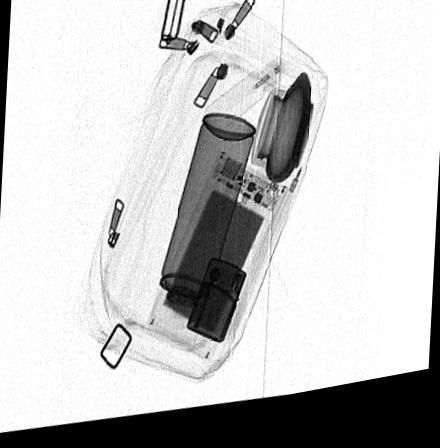Lighter: (187, 264, 248, 352)
Powerbank: (148, 158, 290, 367)
Sprayer: (145, 120, 257, 354)
